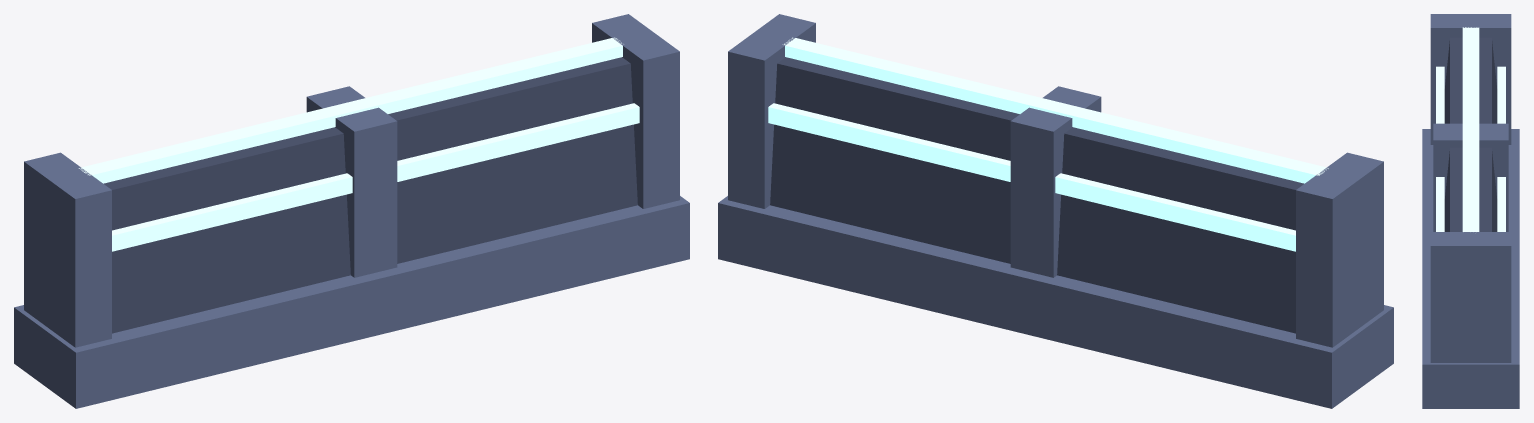
Rendered from EnvBarrier.fbx.
3 views of the same model, side by side, from view 1: azimuth 30°, elevation 25°; view 2: azimuth 150°, elevation 25°; view 3: azimuth 270°, elevation 25° (orthographic). The views are drawn at different scales.
Parts seen in each view (by area): view 1: EnvBarrier; view 2: EnvBarrier; view 3: EnvBarrier.
Part boxes in pixels (x1=…): EnvBarrier: x1=14, y1=14, x2=689, y2=408; EnvBarrier: x1=718, y1=14, x2=1393, y2=408; EnvBarrier: x1=1422, y1=14, x2=1519, y2=408.
Size of the model in its own units: 4 by 1.28 by 0.7.
